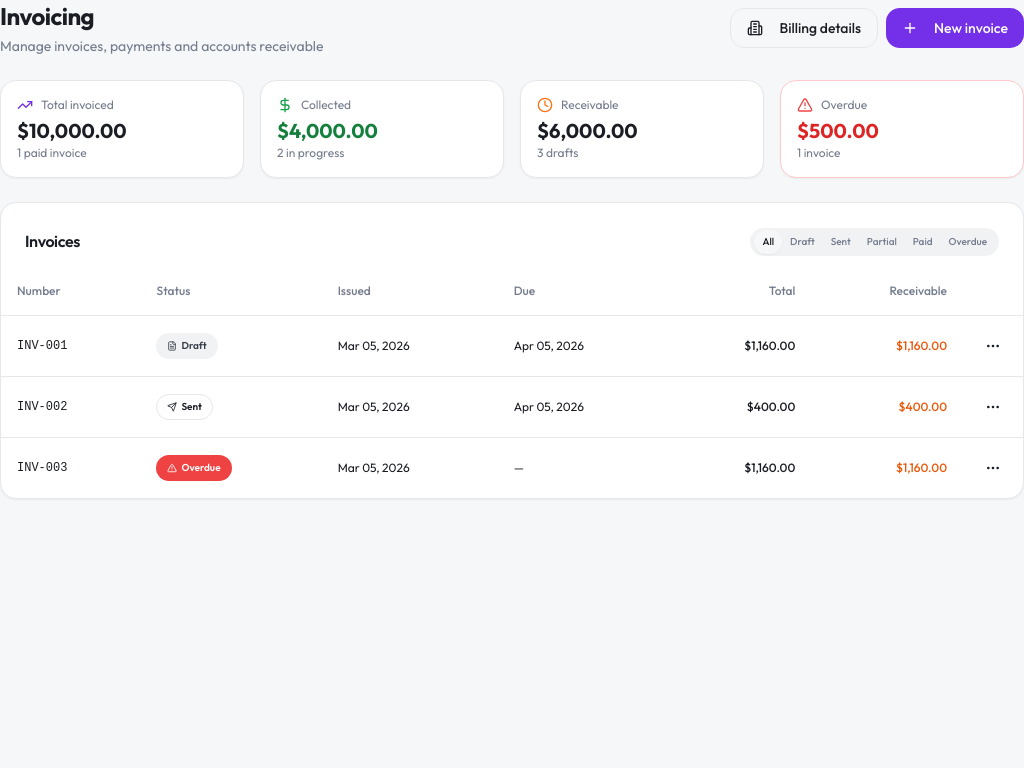
Invoicing in English › lists the payment methods in English
Click the text "INV-001" at (42, 346), box [1,316,140,376]
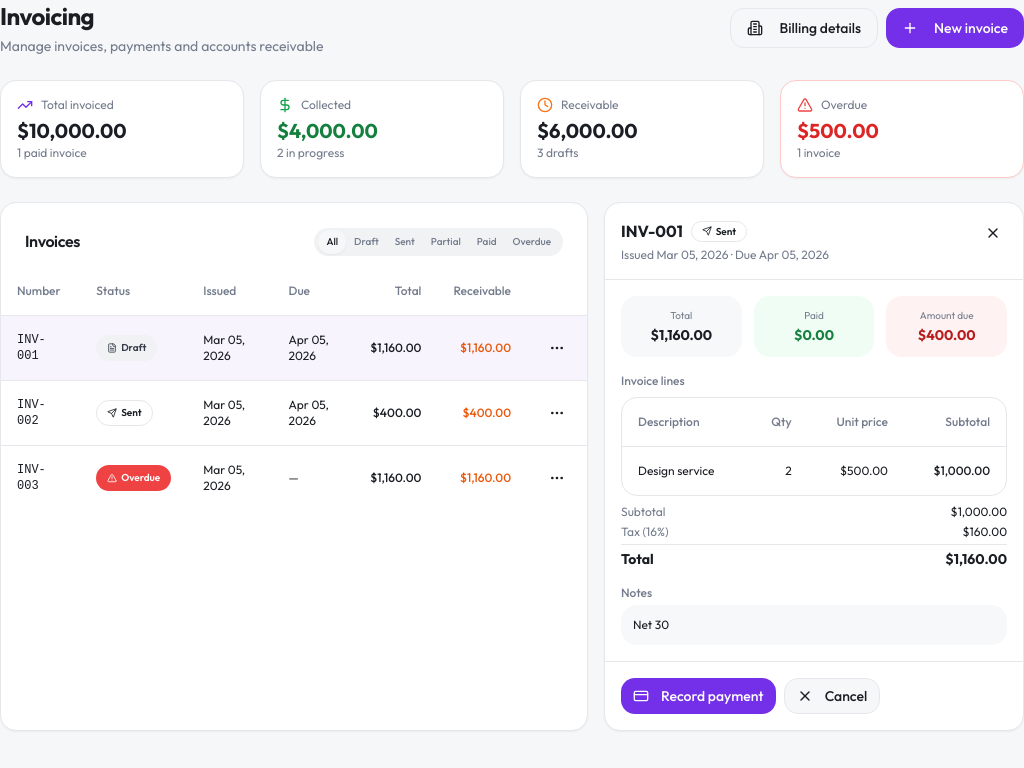
Click the button "Record payment" at (698, 696), box [621,678,776,714]
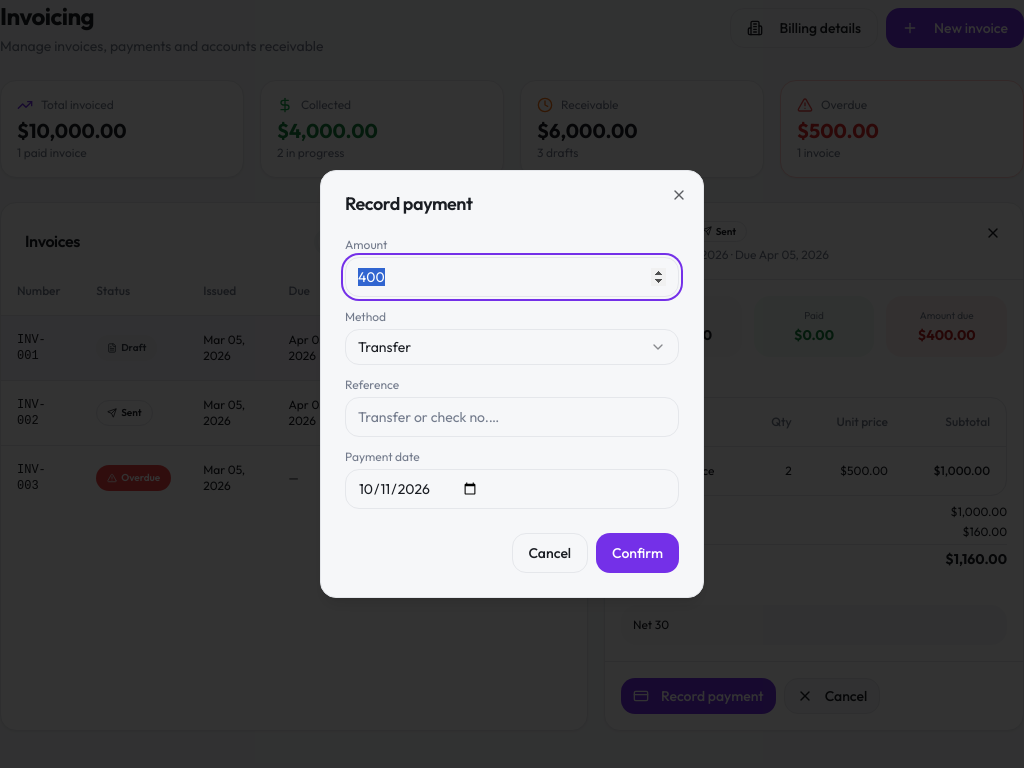
Expected: the text "Amount" is shown, [345,237,388,252]
Expected: the dropdown reads "Transfer"
Press Enter in the dropdown, box [345,329,679,365]
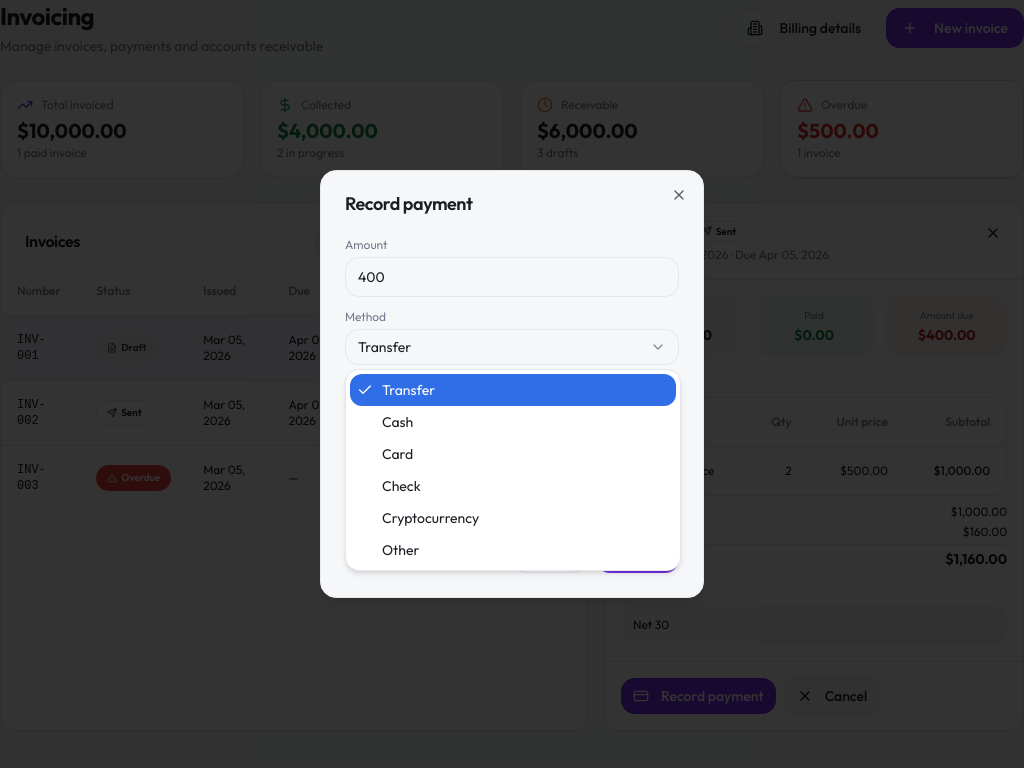
Expected: the option "Cash" is shown, [382,413,413,431]
Expected: the option "Card" is shown, [382,445,413,463]
Expected: the option "Check" is shown, [382,477,421,495]
